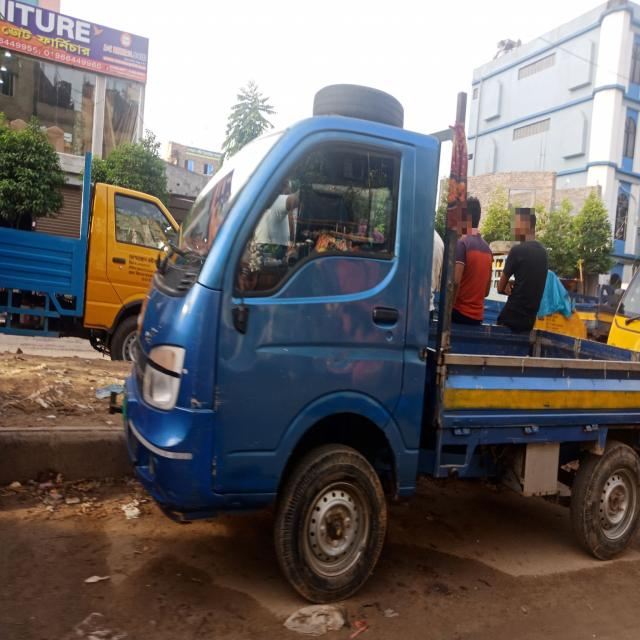truck: (119, 84, 640, 605), (483, 241, 512, 325)
